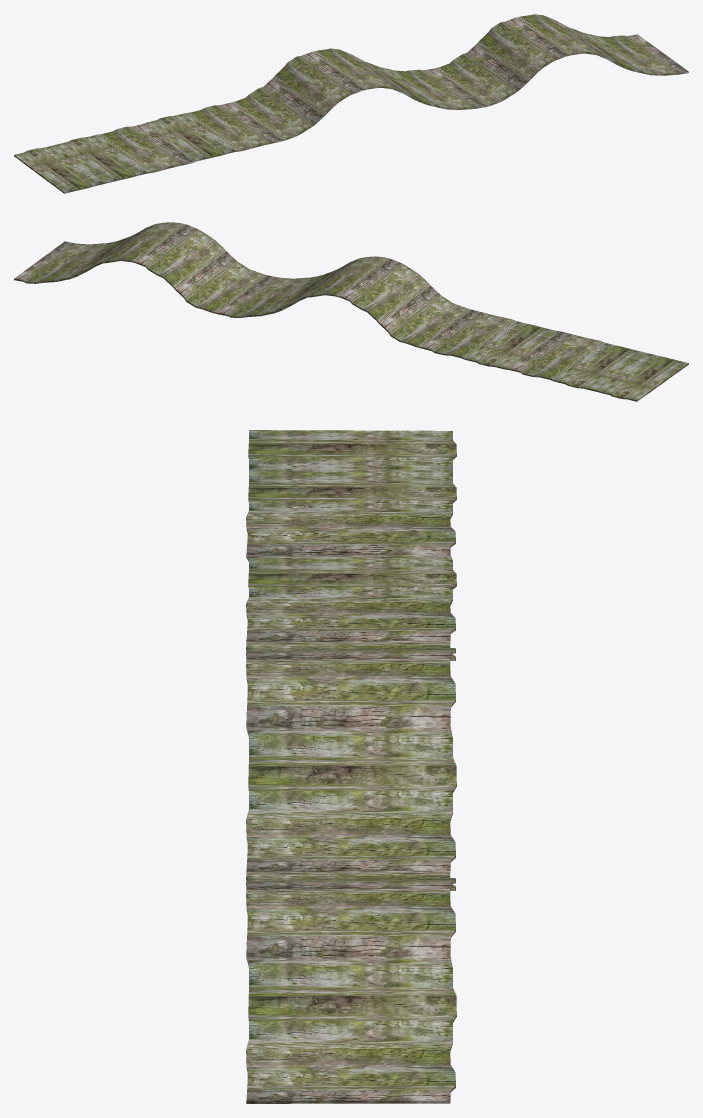
File: RAMP-001.fbx
3 views of the same model, one above another, from view 1: azimuth 30°, elevation 25°; view 2: azimuth 150°, elevation 25°; view 3: azimuth 270°, elevation 25° (orthographic). The views are drawn at different scales.
Parts seen in each view (by area): view 1: ramp_001; view 2: ramp_001; view 3: ramp_001.
Boxes of the visible parts, bbox=[...] form: ramp_001: bbox=[14, 14, 688, 193]; ramp_001: bbox=[14, 222, 688, 401]; ramp_001: bbox=[246, 430, 456, 1103].
Bounding box in the file's own units: 1409 × 137 × 206.
